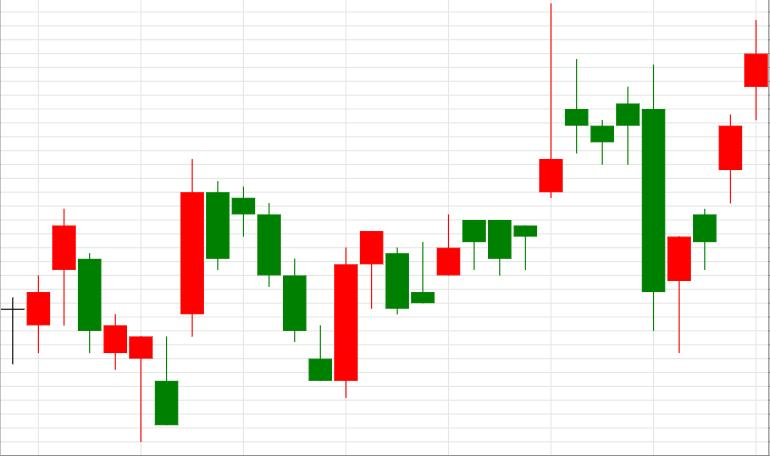bullish_engulfing_rise: (207, 182, 357, 398)
